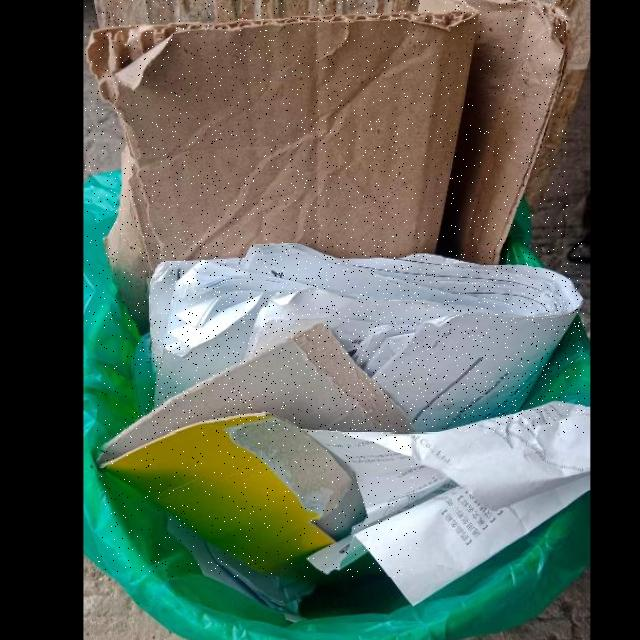paper: (85, 0, 569, 340), (153, 244, 585, 433), (98, 325, 418, 577)
